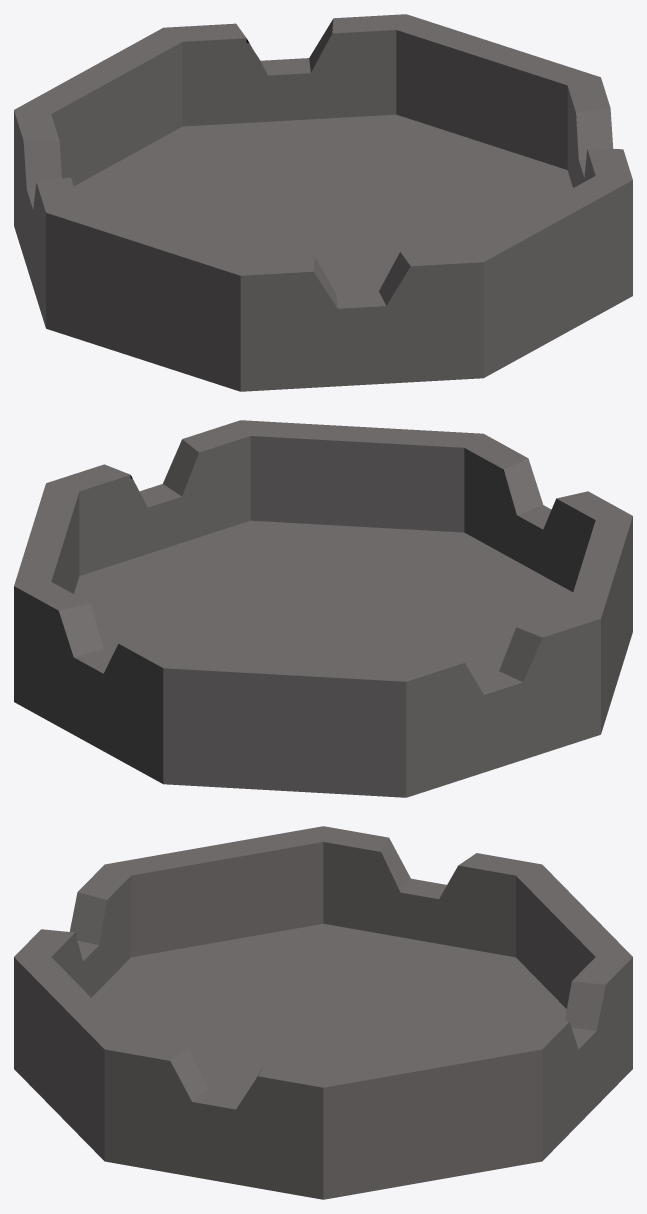
The model's file is Ashtray.glb.
The picture shows the model from 3 angles, top to bottom: view 1: azimuth 30°, elevation 25°; view 2: azimuth 150°, elevation 25°; view 3: azimuth 270°, elevation 25°; orthographic projection. The views are drawn at different scales.
Parts seen in each view (by area): view 1: Ashtray; view 2: Ashtray; view 3: Ashtray.
Boxes of the visible parts, bbox=[...] form: Ashtray: bbox=[14, 14, 632, 391]; Ashtray: bbox=[14, 420, 632, 797]; Ashtray: bbox=[14, 826, 632, 1199].
Bounding box in the file's own units: 2.08 × 0.4161 × 2.08.
Materials: 1 (1 with a texture image).
